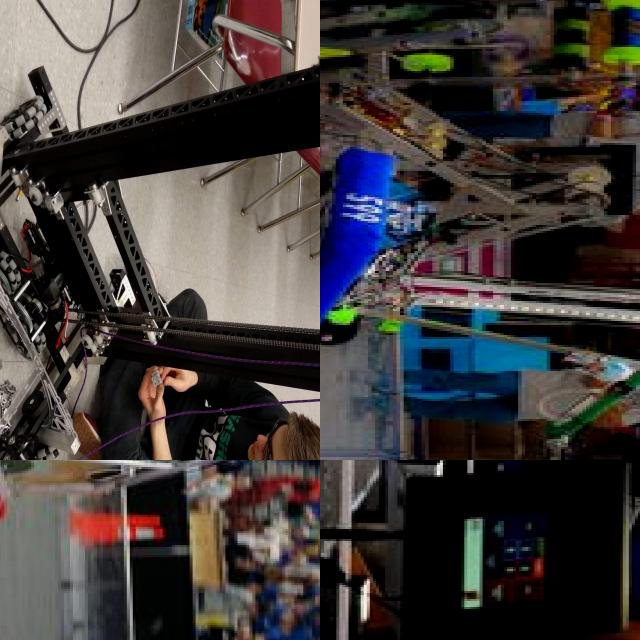FRC-Robots: (0, 18, 320, 460), (320, 161, 640, 460), (320, 58, 640, 261), (340, 460, 640, 640), (320, 0, 640, 135), (0, 460, 320, 589)
